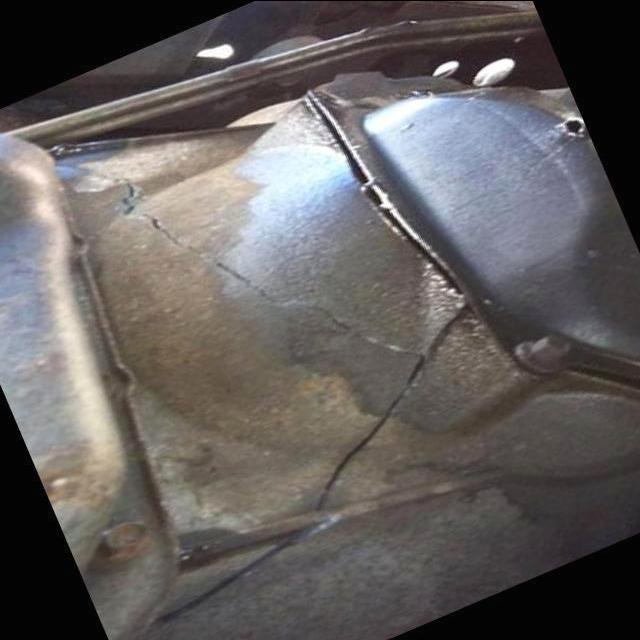defect: (46, 163, 436, 516), (148, 510, 340, 629)
